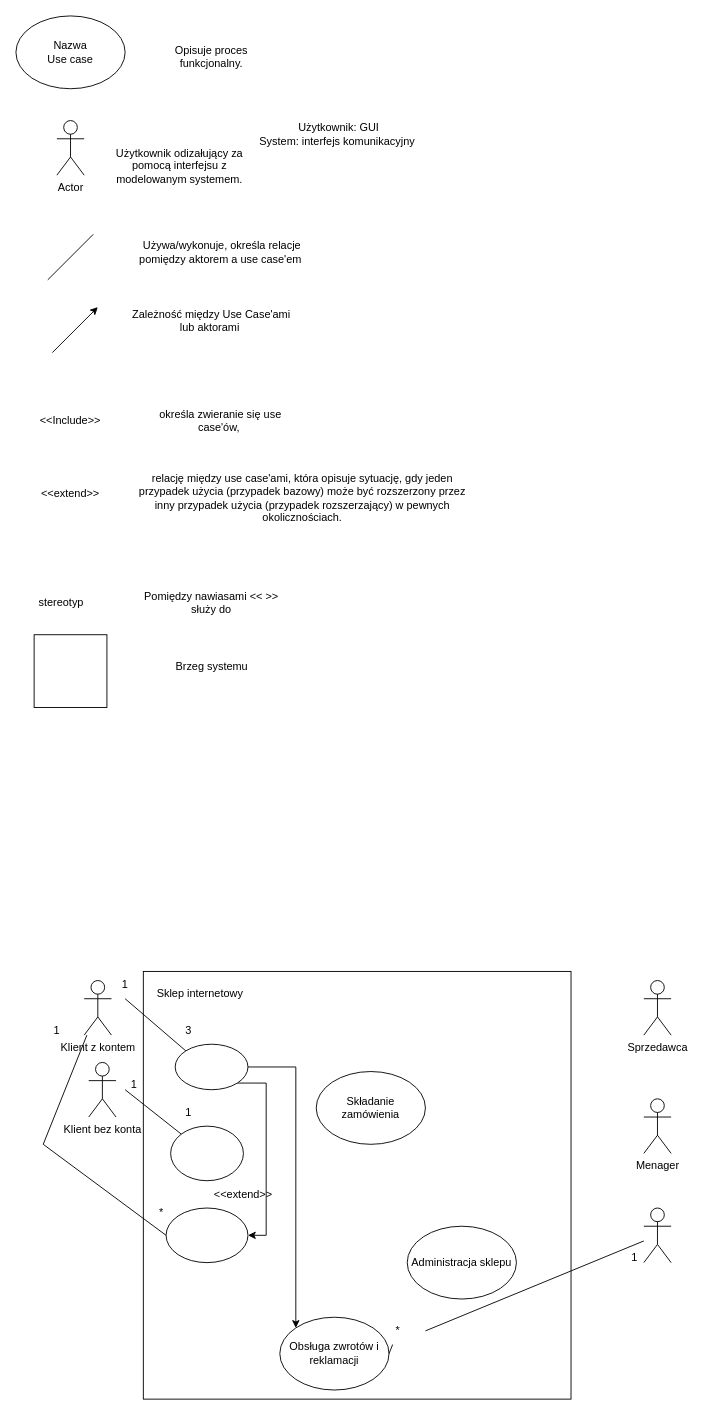
This 711x1415 diagram has some shape labels left out. The centre of each missing label's shape, as x and y in pixels:
Logowanie: the point at 211,1066
Obsługa klienta: the point at 657,1235
rejestracja użytkownika: the point at 206,1153
Zmiana danych konta: the point at 206,1235
